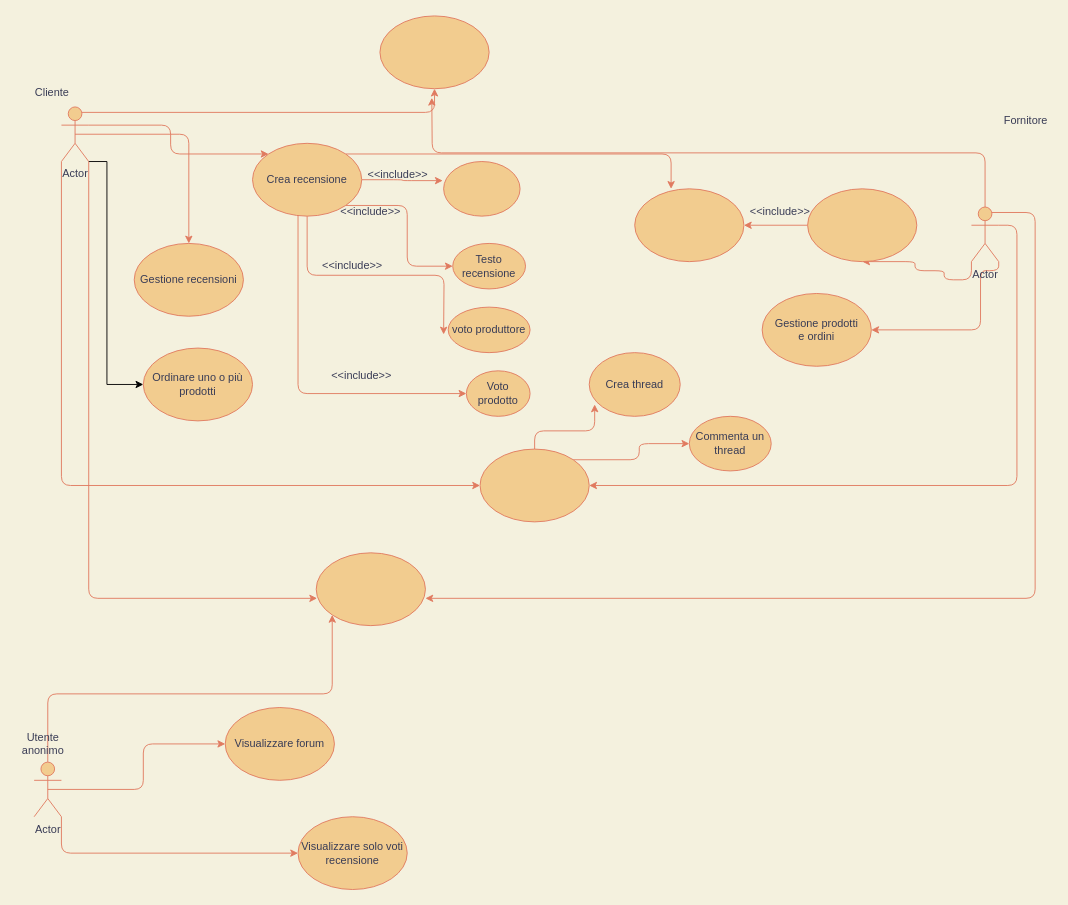
The diagram is 1068 pixels wide and 905 high, and some of its shapes have lost their labels. The shapes that lost their labels are listed below. From the top down, each one's box as (x1, y1, x2, y2) in pixels, then its label:
(379, 15, 489, 89): Registrazione
(443, 161, 520, 216): Titolo
(634, 188, 744, 262): Prodotto
(807, 188, 917, 262): Caricamento nuovo prodotto
(479, 448, 589, 522): Partecipazione e visualizzazione forum
(315, 552, 425, 626): Ricerca filtrata
